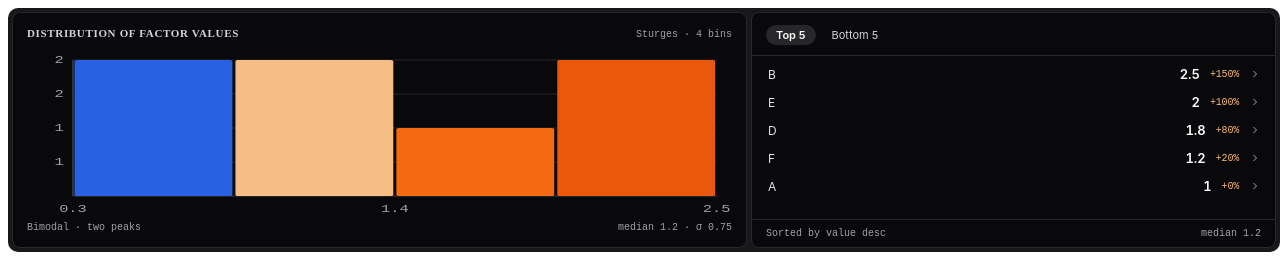
Test case: <FactorDistribution> › switches to bottom outliers when the Bottom tab is clicked
This screenshot has width=1280, height=269.
Click the button with test id "rater-factor-distribution-tab-bottom" at (855, 35), box left=822, top=25, right=888, bottom=45
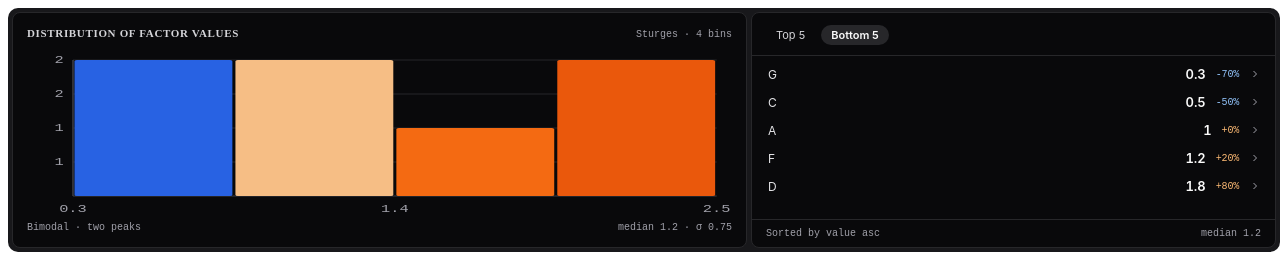
expect the button with test id "rater-factor-distribution-outlier-g" is shown: met, box left=752, top=60, right=1275, bottom=88
